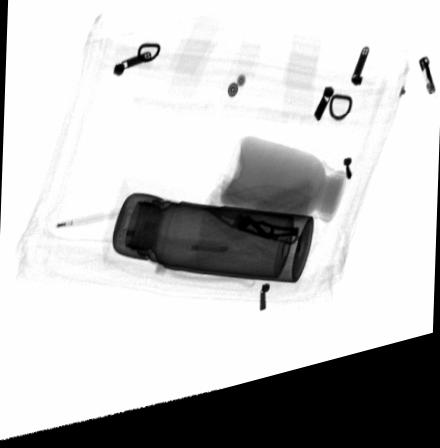Knife: (200, 218, 299, 261)
